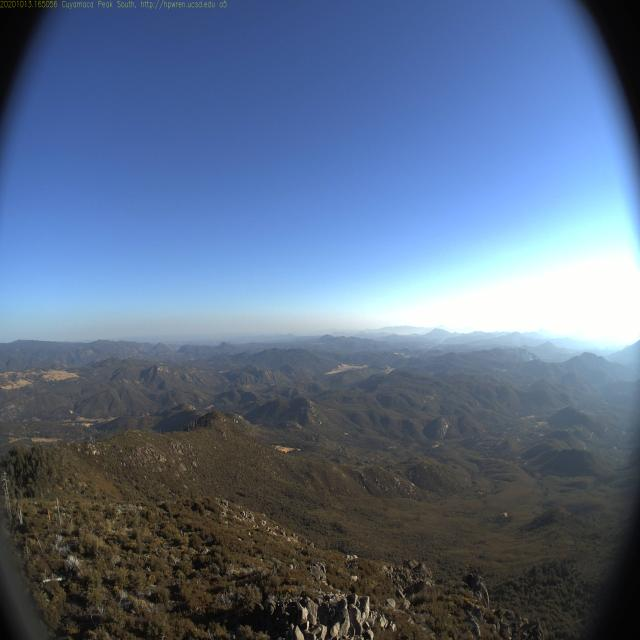smoke: (504, 332, 540, 364)
